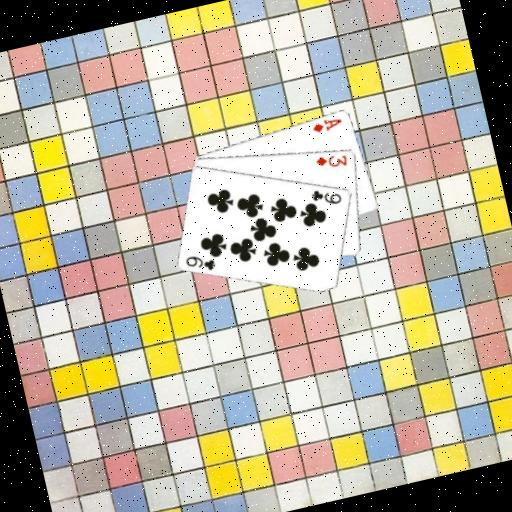3D: (312, 148, 350, 174)
9C: (307, 182, 345, 212), (182, 248, 219, 278)
AD: (308, 113, 345, 137)
